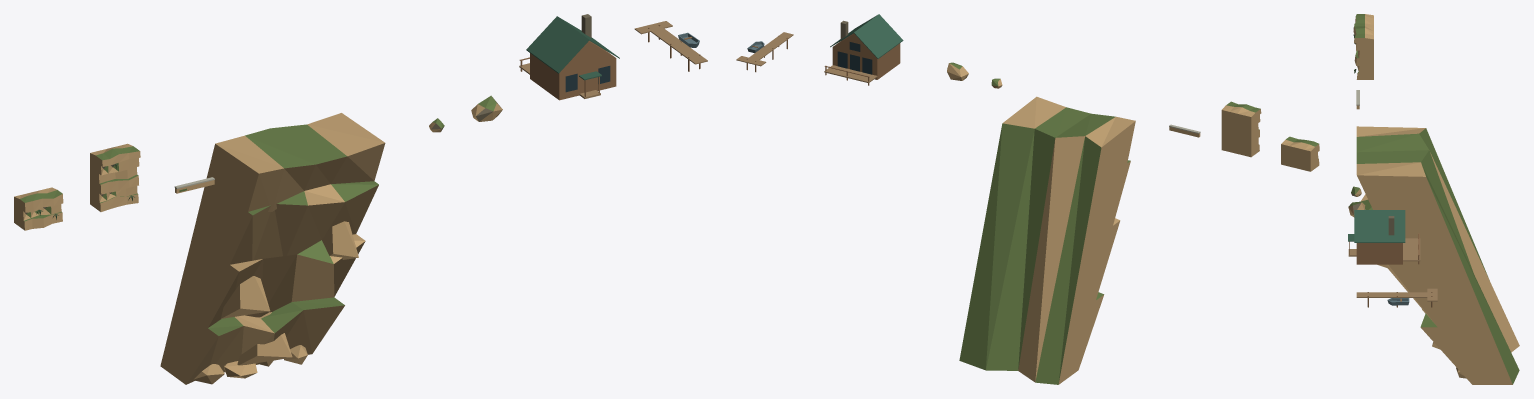
The model's file is pnw-shore.glb.
3 views of the same model, side by side, from view 1: azimuth 30°, elevation 25°; view 2: azimuth 150°, elevation 25°; view 3: azimuth 270°, elevation 25° (orthographic). The views are drawn at different scales.
Parts seen in each view (by area): view 1: chuckanut_bluff_body, samish_lake_house_body, chuckanut_rockcut_tall_body, chuckanut_rockcut_body, samish_dock_body; view 2: chuckanut_bluff_body, samish_lake_house_body, chuckanut_rockcut_tall_body, chuckanut_rockcut_body, samish_dock_body; view 3: chuckanut_bluff_body, samish_lake_house_body, chuckanut_rockcut_tall_body, samish_dock_body, chuckanut_rockcut_body, chuckanut_boulder_b_body.
Part boxes in pixels (<box>): chuckanut_bluff_body: <box>160,113,385,384</box>; samish_lake_house_body: <box>519,14,619,100</box>; chuckanut_rockcut_tall_body: <box>90,143,140,211</box>; chuckanut_rockcut_body: <box>14,187,63,230</box>; samish_dock_body: <box>634,21,707,71</box>; chuckanut_bluff_body: <box>959,96,1135,384</box>; samish_lake_house_body: <box>824,14,903,85</box>; chuckanut_rockcut_tall_body: <box>1221,101,1261,157</box>; chuckanut_rockcut_body: <box>1281,136,1319,171</box>; samish_dock_body: <box>736,32,793,72</box>; chuckanut_bluff_body: <box>1356,126,1519,384</box>; samish_lake_house_body: <box>1348,210,1420,264</box>; chuckanut_rockcut_tall_body: <box>1353,23,1373,79</box>; samish_dock_body: <box>1356,288,1437,307</box>; chuckanut_rockcut_body: <box>1353,14,1373,43</box>; chuckanut_boulder_b_body: <box>1348,201,1365,217</box>.
Bounding box in the file's own units: 110 × 48.5 × 29.71.
